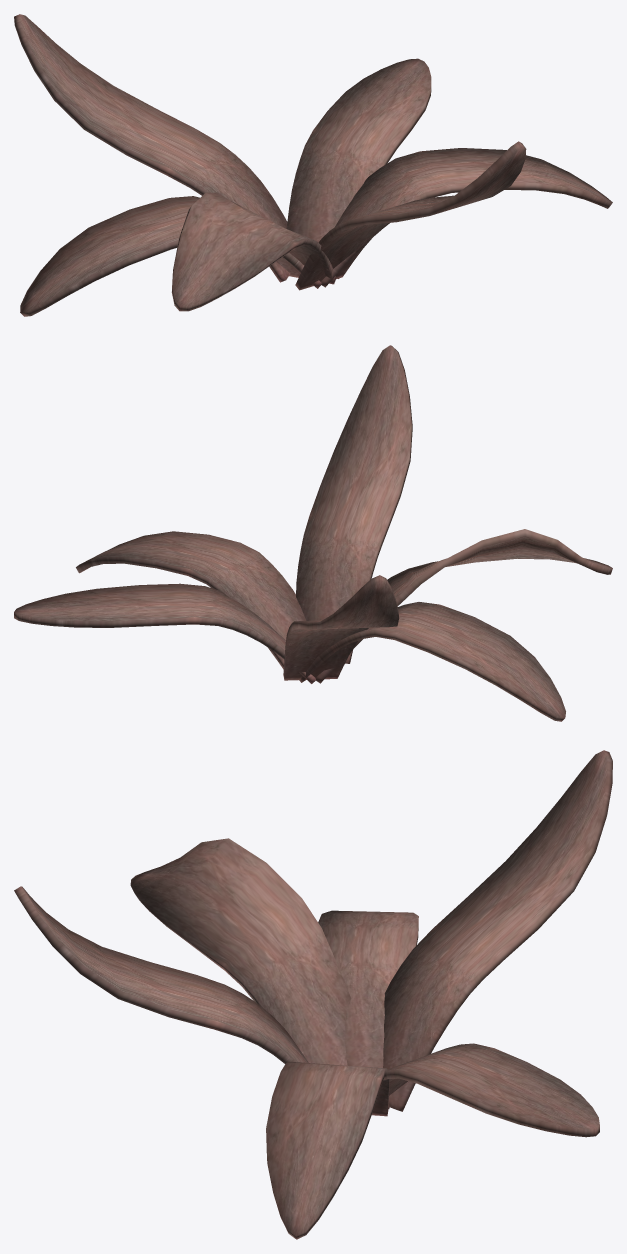
Rendered from calyx2_sb2_b.dae.
3 renders of one model, top to bottom at view 1: azimuth 30°, elevation 25°; view 2: azimuth 150°, elevation 25°; view 3: azimuth 270°, elevation 25°, orthographic. The views are drawn at different scales.
Visible parts, largest first — view 1: calyx2, calyx1, calyx4, calyx3, calyx3_001, calyx2_001; view 2: calyx2_001, calyx3, calyx1, calyx3_001, calyx2, calyx4; view 3: calyx4, calyx2, calyx3_001, calyx2_001, calyx1, calyx3.
Boxes of the visible parts, x1,y1,x2,y2 form: calyx2: [14, 14, 290, 282]; calyx1: [286, 58, 431, 278]; calyx4: [171, 192, 336, 311]; calyx3: [20, 196, 321, 316]; calyx3_001: [321, 148, 612, 287]; calyx2_001: [295, 141, 526, 290]; calyx2_001: [296, 345, 412, 663]; calyx3: [299, 602, 565, 721]; calyx1: [14, 583, 315, 683]; calyx3_001: [76, 531, 306, 669]; calyx2: [283, 575, 399, 680]; calyx4: [315, 529, 612, 683]; calyx4: [130, 838, 351, 1065]; calyx2: [383, 750, 612, 1111]; calyx3_001: [266, 1062, 389, 1239]; calyx2_001: [14, 886, 308, 1063]; calyx1: [383, 1043, 599, 1137]; calyx3: [318, 910, 418, 1108].
Size of the model in its own units: 0.0883 by 0.0719 by 0.0345.
6 materials, 6 textured.
